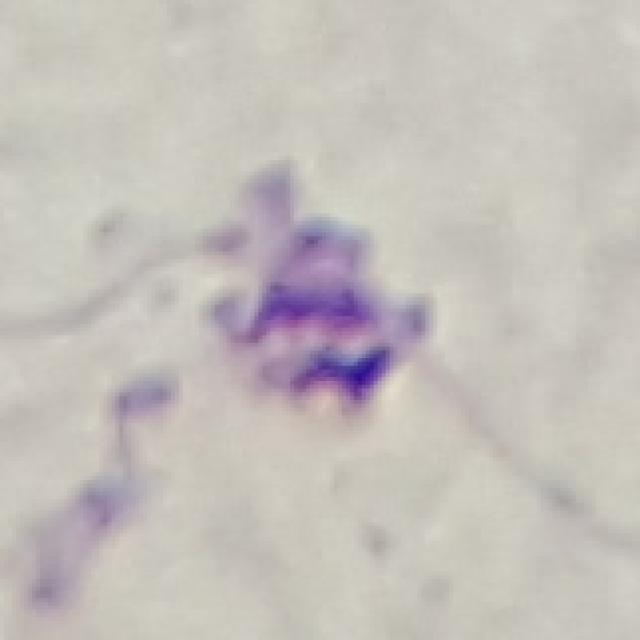non-sperm: (211, 168, 436, 408)
